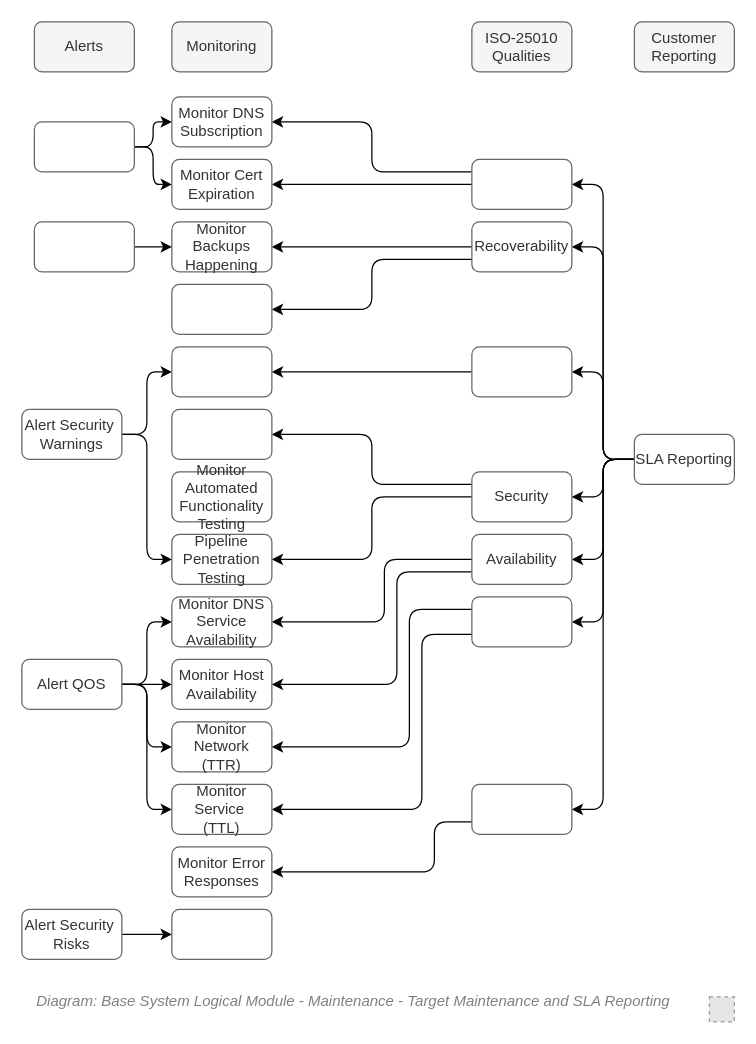
Some shapes in this 756 by 1044 pixel diagram are drawn without their labels. Grey dashed boxes stand in for pictures. The centre of each missing label's shape, as x and y in pixels:
"Alert Backup Failures" goes at (83,246).
"Alert Subscription Failures" goes at (83,146).
"Functionality" goes at (521,808).
"Maintainability" goes at (521,371).
"Monitor Code Warnings" goes at (221,433).
"Monitor Component Versions" goes at (221,371).
"Monitor Network Traffic" goes at (221,933).
"Monitor Pipeline Errors" goes at (221,308).
"Responsiveness" goes at (521,621).
"Subscription/ License Expirations" goes at (521,183).
